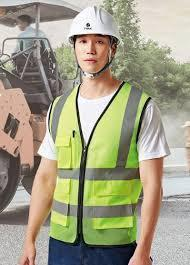helmet: (68, 5, 122, 41)
